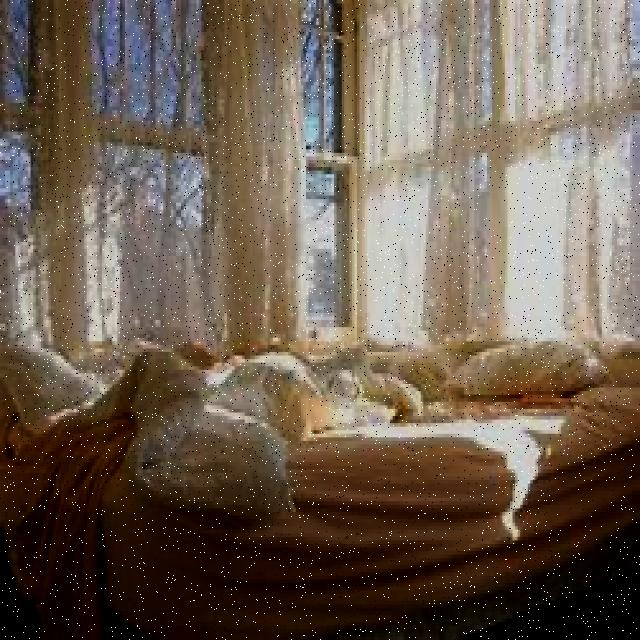bed: (15, 294, 640, 640)
